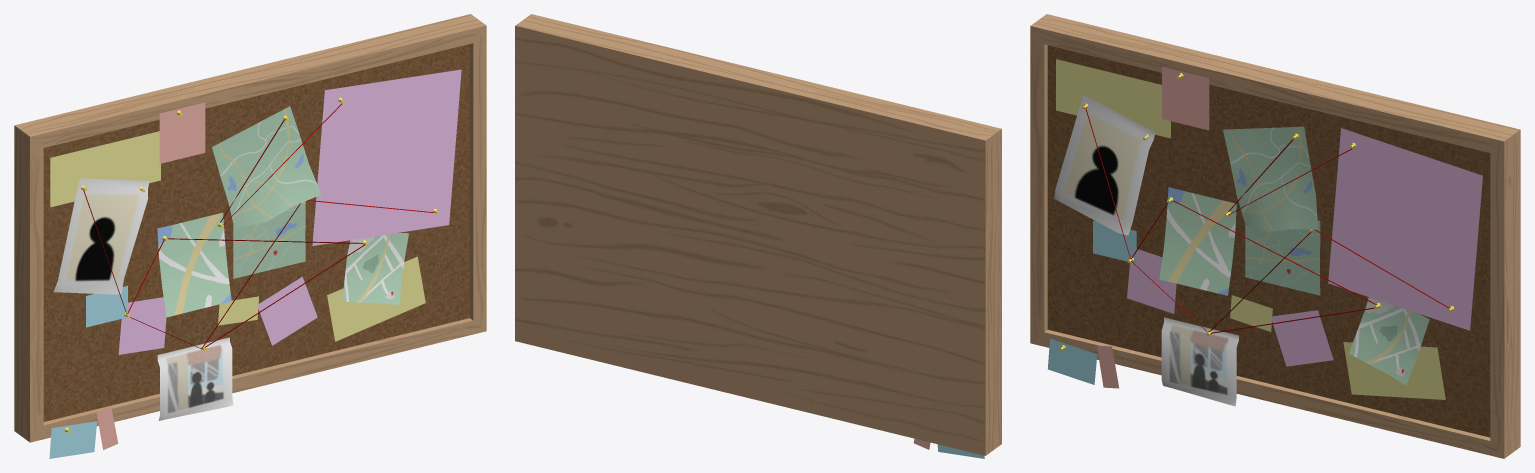
Rendered from uxr-transformed.glb.
3 views of the same model, side by side, from view 1: azimuth 30°, elevation 25°; view 2: azimuth 150°, elevation 25°; view 3: azimuth 330°, elevation 25° (orthographic). The views are drawn at different scales.
Parts seen in each view (by area): view 1: Board001_board_0, Paper003_paper 3_0, Paper002_paper 2_0, Paper001_paper 1_0, Line006_line_0; view 2: Board001_board_0; view 3: Board001_board_0, Paper003_paper 3_0, Paper002_paper 2_0, Paper001_paper 1_0, Line006_line_0.
Boxes of the visible parts, left/top/right/bottom form: Board001_board_0: left=14, top=14, right=486, bottom=442; Paper003_paper 3_0: left=49, top=69, right=461, bottom=458; Paper002_paper 2_0: left=157, top=106, right=408, bottom=317; Paper001_paper 1_0: left=53, top=178, right=233, bottom=420; Line006_line_0: left=83, top=103, right=433, bottom=348; Board001_board_0: left=515, top=14, right=1001, bottom=455; Board001_board_0: left=1030, top=14, right=1520, bottom=458; Paper003_paper 3_0: left=1048, top=59, right=1482, bottom=399; Paper002_paper 2_0: left=1159, top=126, right=1429, bottom=385; Paper001_paper 1_0: left=1054, top=94, right=1238, bottom=406; Line006_line_0: left=1085, top=107, right=1449, bottom=333.
Bounding box in the file's own units: 2.5 × 1.73 × 0.2148.
6 materials, 5 textured.
